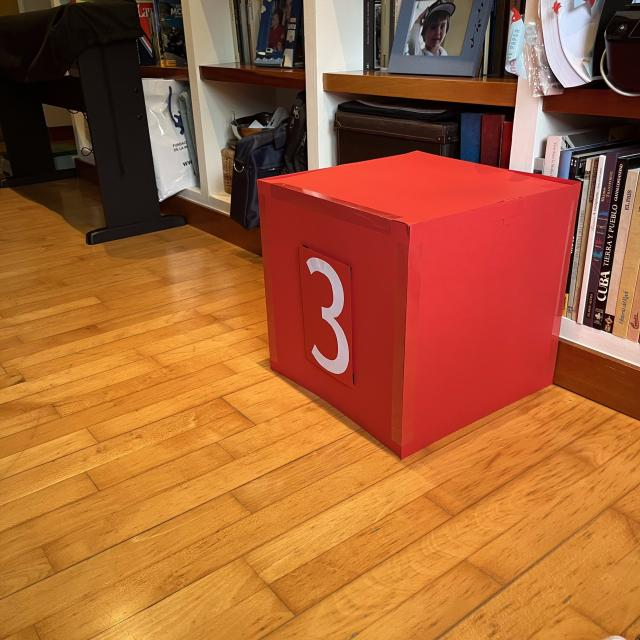box: (255, 147, 582, 460)
